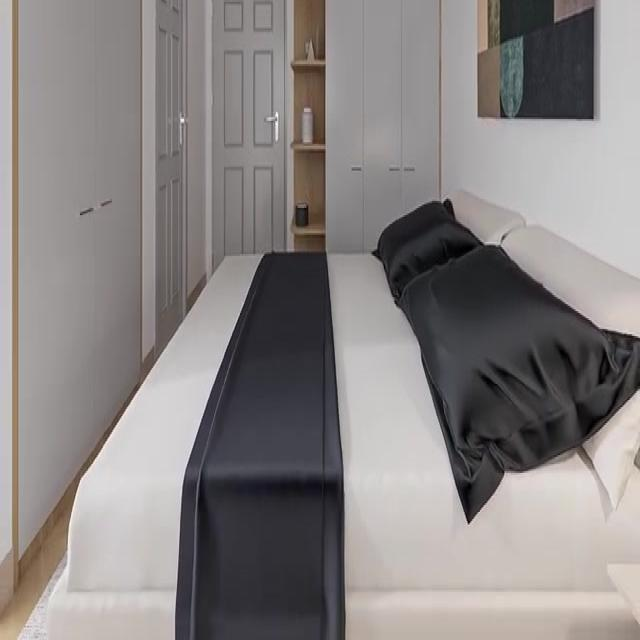door: (211, 0, 285, 270), (157, 2, 187, 361)
obstacle: (46, 186, 639, 638)
